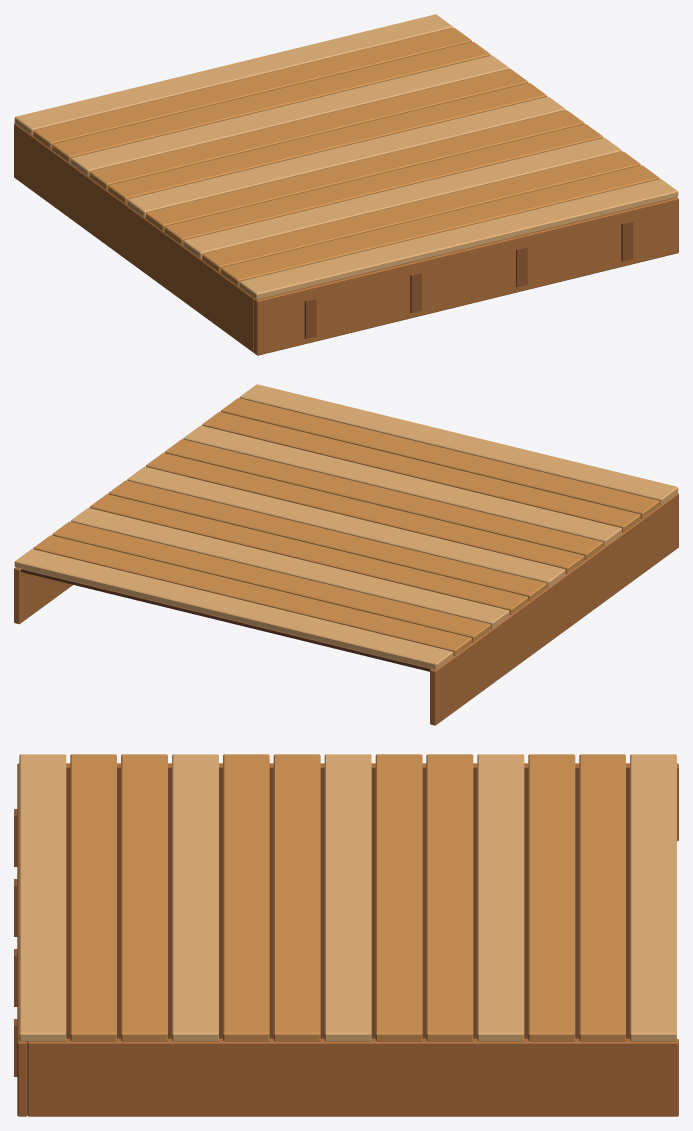
The model's file is deck_2x2m_h30.glb.
3 views of the same model, one above another, from view 1: azimuth 30°, elevation 25°; view 2: azimuth 150°, elevation 25°; view 3: azimuth 270°, elevation 25° (orthographic). The views are drawn at different scales.
Visible parts, largest first — view 1: deck_2x2m_h30; view 2: deck_2x2m_h30; view 3: deck_2x2m_h30.
Part boxes in pixels (x1,y1,x2,y2): deck_2x2m_h30: [14, 14, 678, 355]; deck_2x2m_h30: [14, 384, 678, 725]; deck_2x2m_h30: [14, 754, 678, 1116].
Bounding box in the file's own units: 2 × 0.28 × 2.01.
Materials: 1 (1 with a texture image).
